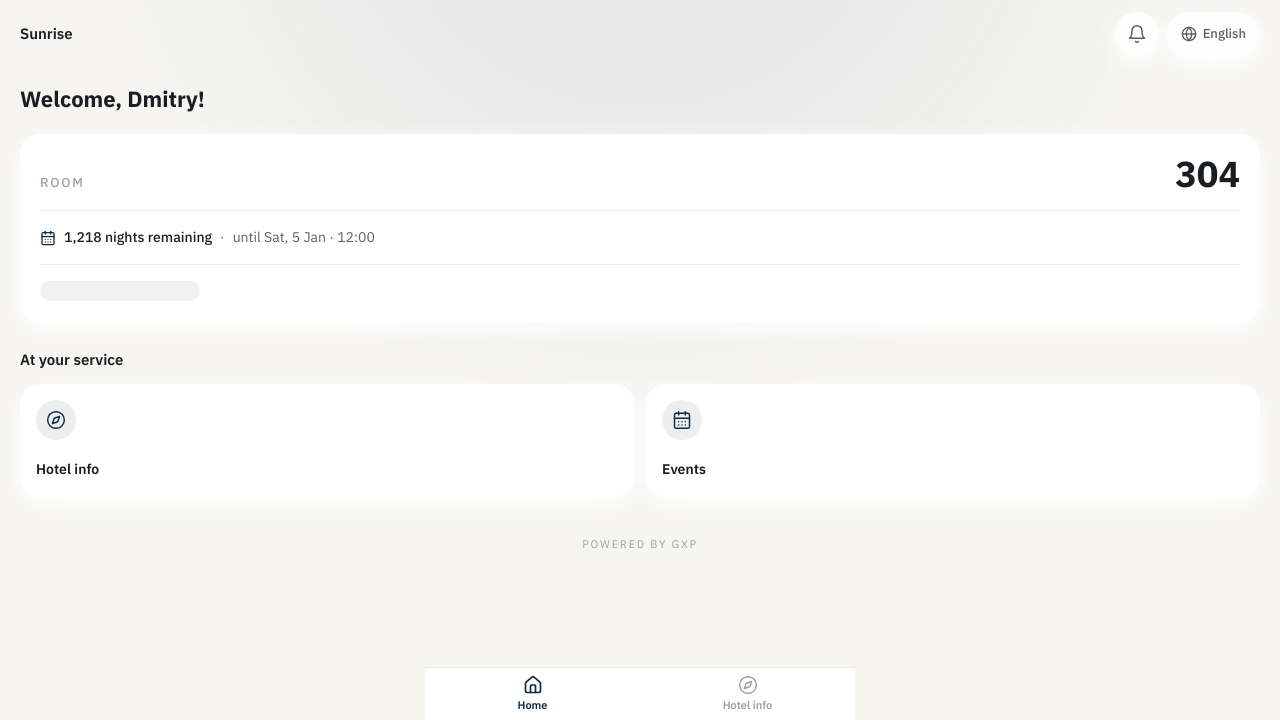
Test: Final-review fix — announcement chips are never dead taps › renders both chips when their sections are live
This screenshot has width=1280, height=720.
Click the button with test id "announcements-bell" at (1137,34), box [1115,12,1159,56]
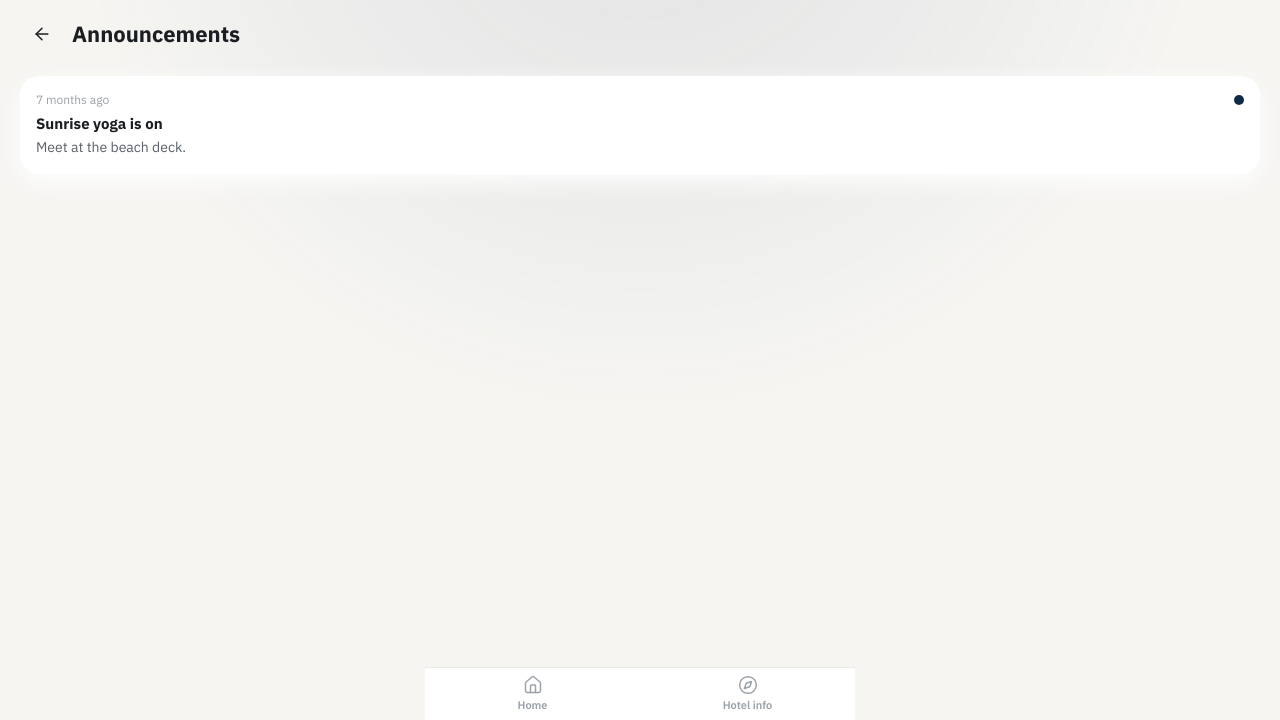
Expected: the text "Sunrise yoga is on" is shown
Click the text "Sunrise yoga is on" at (99,124), box [36,114,163,133]
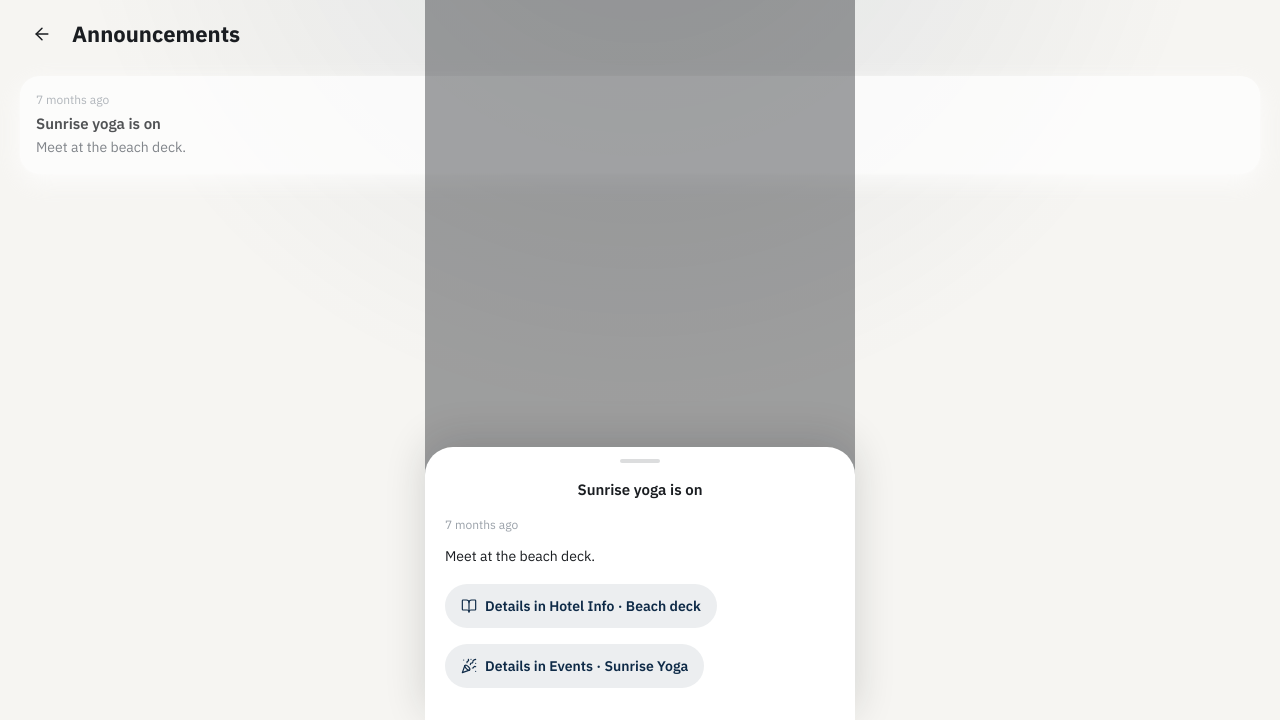
Expected: the dialog with test id "bottom-sheet" is shown, [425,447,855,719]
Expected: the text "Details in Events · Sunrise Yoga" is shown, [485,656,688,676]
Expected: the text "Details in Hotel Info · Beach deck" is shown, [485,596,701,616]
